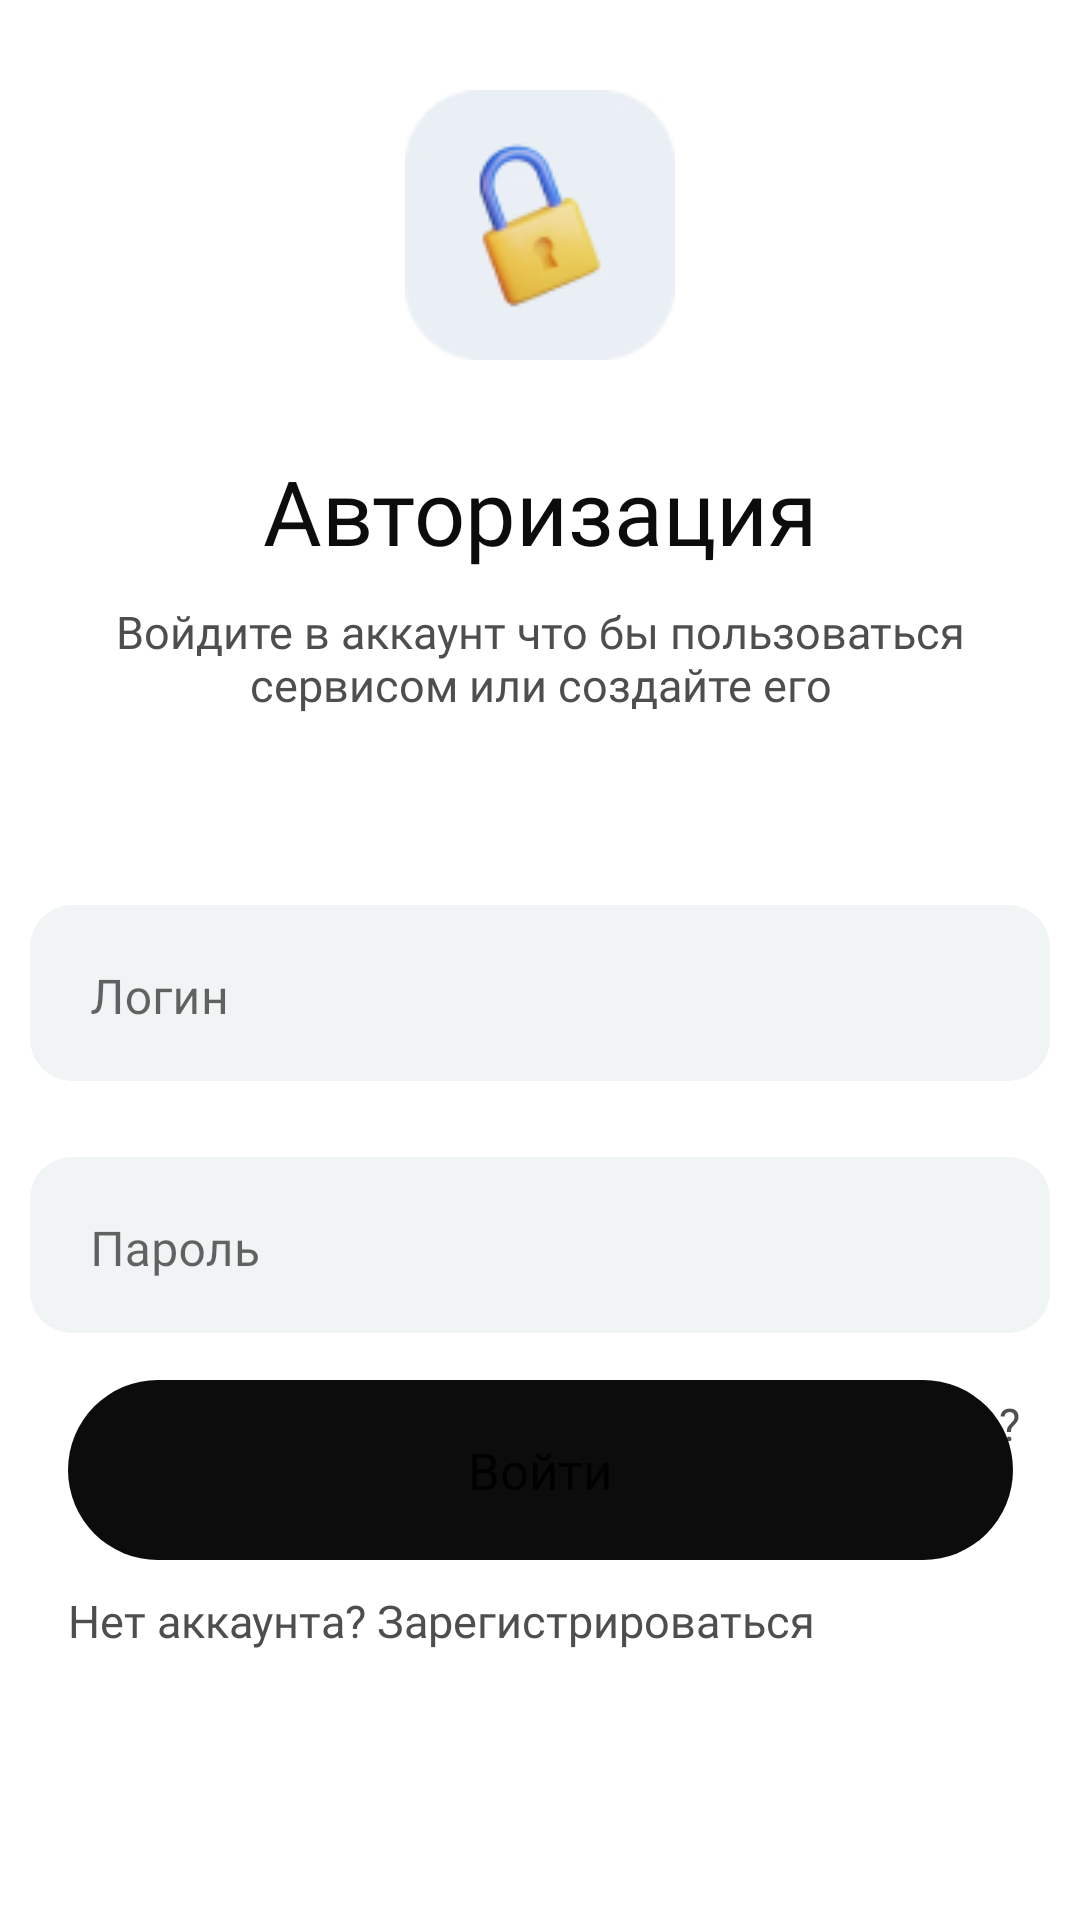

Where icons sit on this 1080*1920 app screen, as (x1,y1,x2,y2):
auth: (479,143,601,307)
